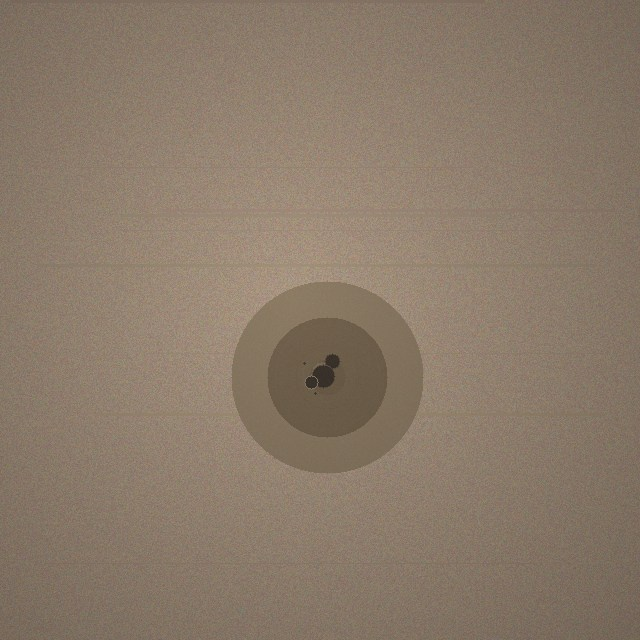shrinkage: (231, 281, 423, 473)
